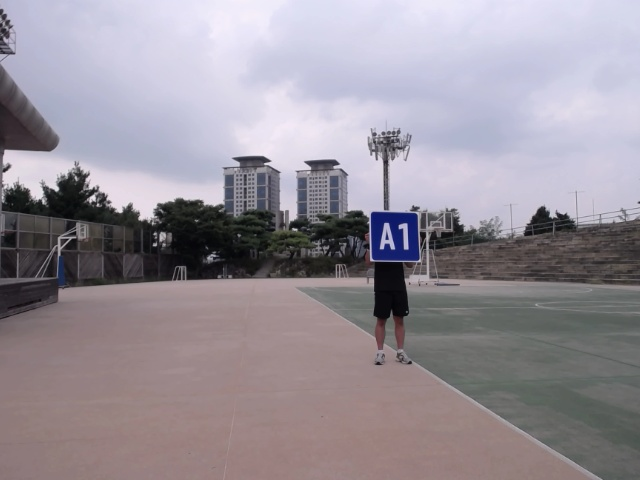delivery_a1: (369, 211, 421, 262)
